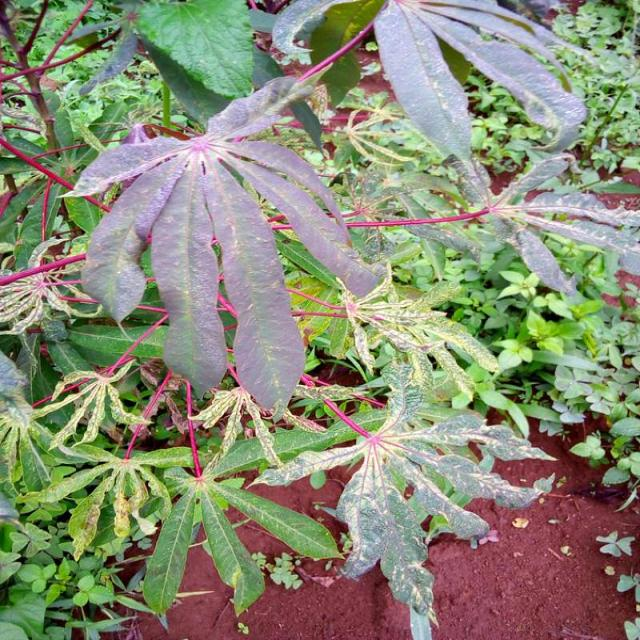cassava leaf: (66, 74, 388, 420)
